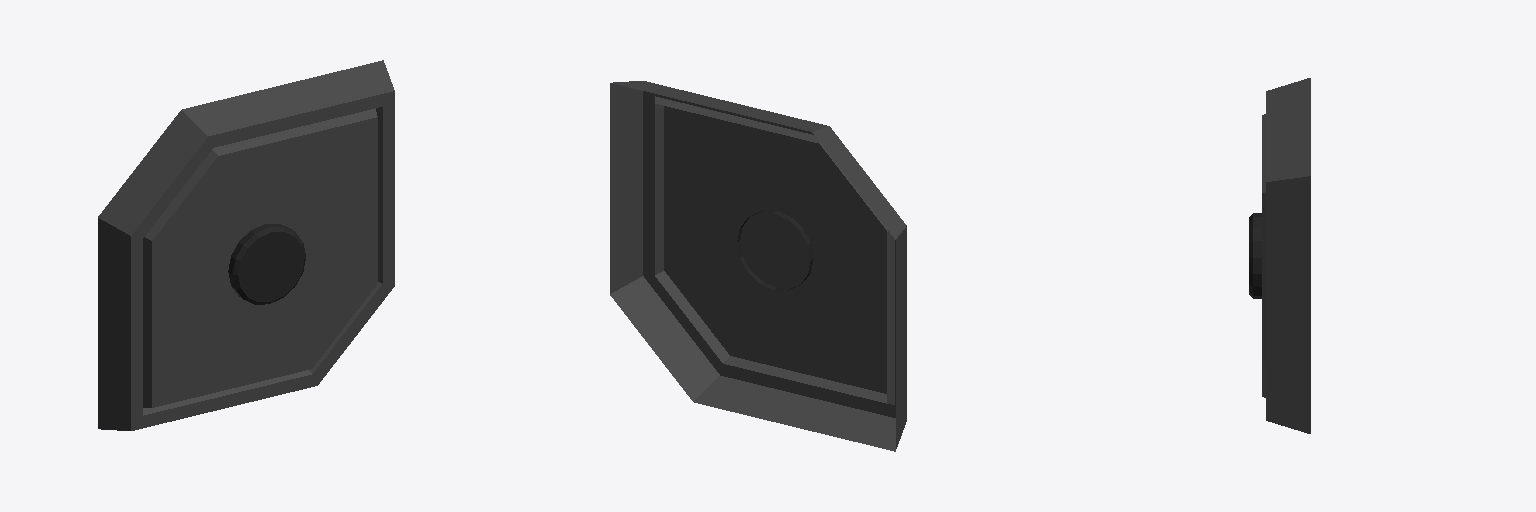
File: Details_Basic_1.obj
3 renders of one model, left to right at view 1: azimuth 30°, elevation 25°; view 2: azimuth 150°, elevation 25°; view 3: azimuth 270°, elevation 25°, orthographic.
Parts seen in each view (by area): view 1: Details_Basic_1_Cylinder.023; view 2: Details_Basic_1_Cylinder.023; view 3: Details_Basic_1_Cylinder.023.
Part boxes in pixels (left/top/right/bottom): Details_Basic_1_Cylinder.023: left=98, top=60, right=394, bottom=430; Details_Basic_1_Cylinder.023: left=610, top=81, right=906, bottom=451; Details_Basic_1_Cylinder.023: left=1249, top=78, right=1310, bottom=433.
Bounding box in the file's own units: 0.2699 × 0.2699 × 0.0503.